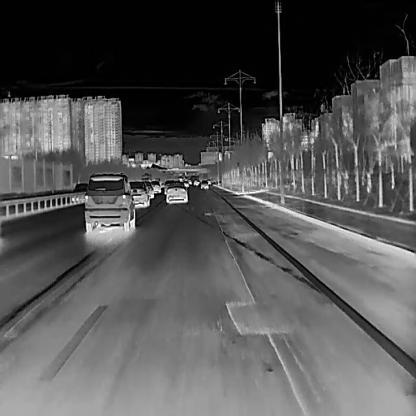car: (83, 172, 133, 231), (128, 181, 149, 208), (165, 181, 187, 203), (70, 182, 87, 201), (150, 179, 161, 193), (200, 179, 208, 189)
